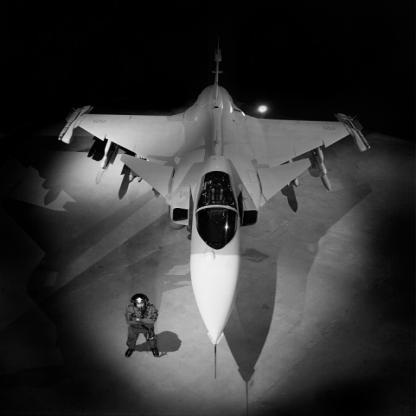JAS39: (58, 39, 372, 381)
